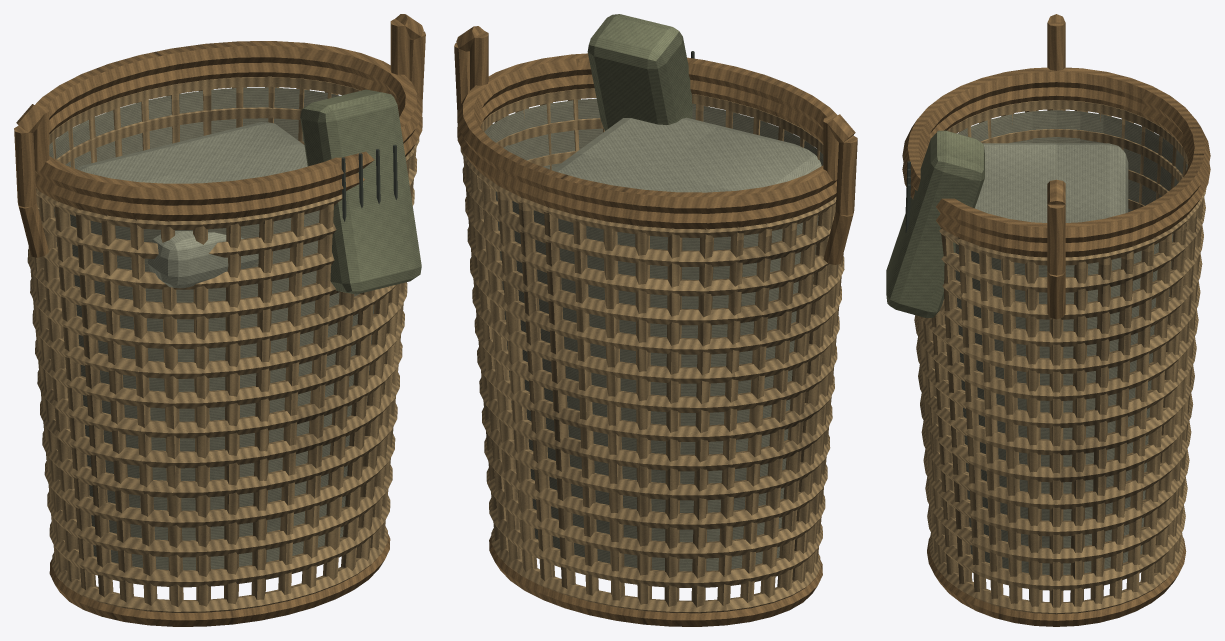
File: laundry_hamper_woven.glb
3 renders of one model, left to right at view 1: azimuth 30°, elevation 25°; view 2: azimuth 150°, elevation 25°; view 3: azimuth 270°, elevation 25°, orthographic. The views are drawn at different scales.
Visible parts, largest first — view 1: F04_laundry_hamper_woven; view 2: F04_laundry_hamper_woven; view 3: F04_laundry_hamper_woven.
Part boxes in pixels (<box>): F04_laundry_hamper_woven: <box>14,14,425,626</box>; F04_laundry_hamper_woven: <box>454,14,857,626</box>; F04_laundry_hamper_woven: <box>886,14,1210,626</box>.
Size of the model in its own units: 0.5733 by 0.6761 by 0.4292.
6 materials, 5 textured.
